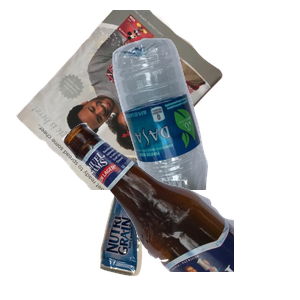glass: (60, 120, 300, 300)
paper: (14, 10, 229, 190)
plastic: (110, 36, 300, 216)
trash: (97, 152, 248, 300)
